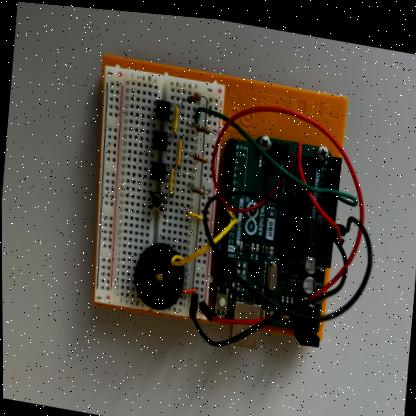5V: (210, 101, 363, 320)
ARDUINO: (214, 129, 337, 329)
Breadboard: (95, 64, 225, 316)
Button: (155, 96, 171, 118), (150, 159, 166, 178), (152, 127, 167, 147), (149, 189, 164, 208)
GND: (203, 187, 346, 305), (289, 208, 370, 316), (190, 303, 289, 343)
Long wire: (170, 239, 211, 263), (212, 214, 237, 241)
Piezo: (134, 241, 184, 307)
Resistor: (188, 149, 211, 160), (183, 89, 204, 100), (195, 120, 212, 131), (189, 181, 205, 192)
Short wire: (173, 102, 178, 133), (177, 134, 182, 164), (169, 163, 174, 192), (187, 208, 203, 217), (181, 285, 196, 291)
